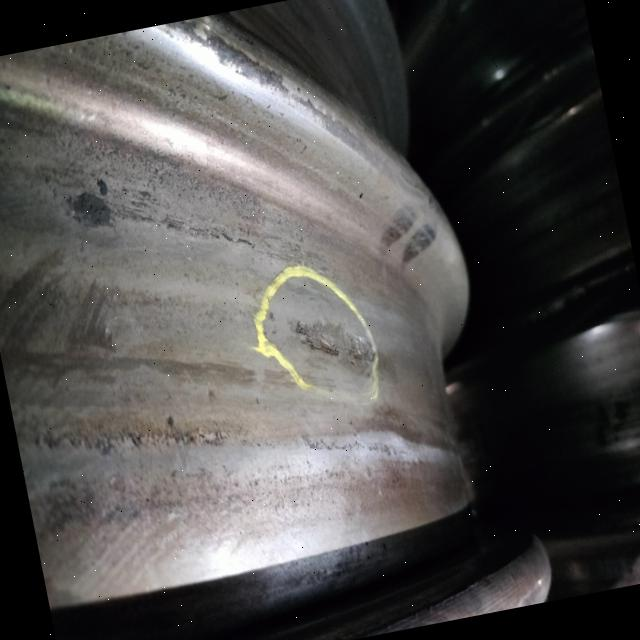Contact_Fatigue_Cracks: (138, 186, 262, 281), (294, 413, 394, 484)
Peeling: (291, 306, 378, 385)
flat: (207, 351, 317, 424)
